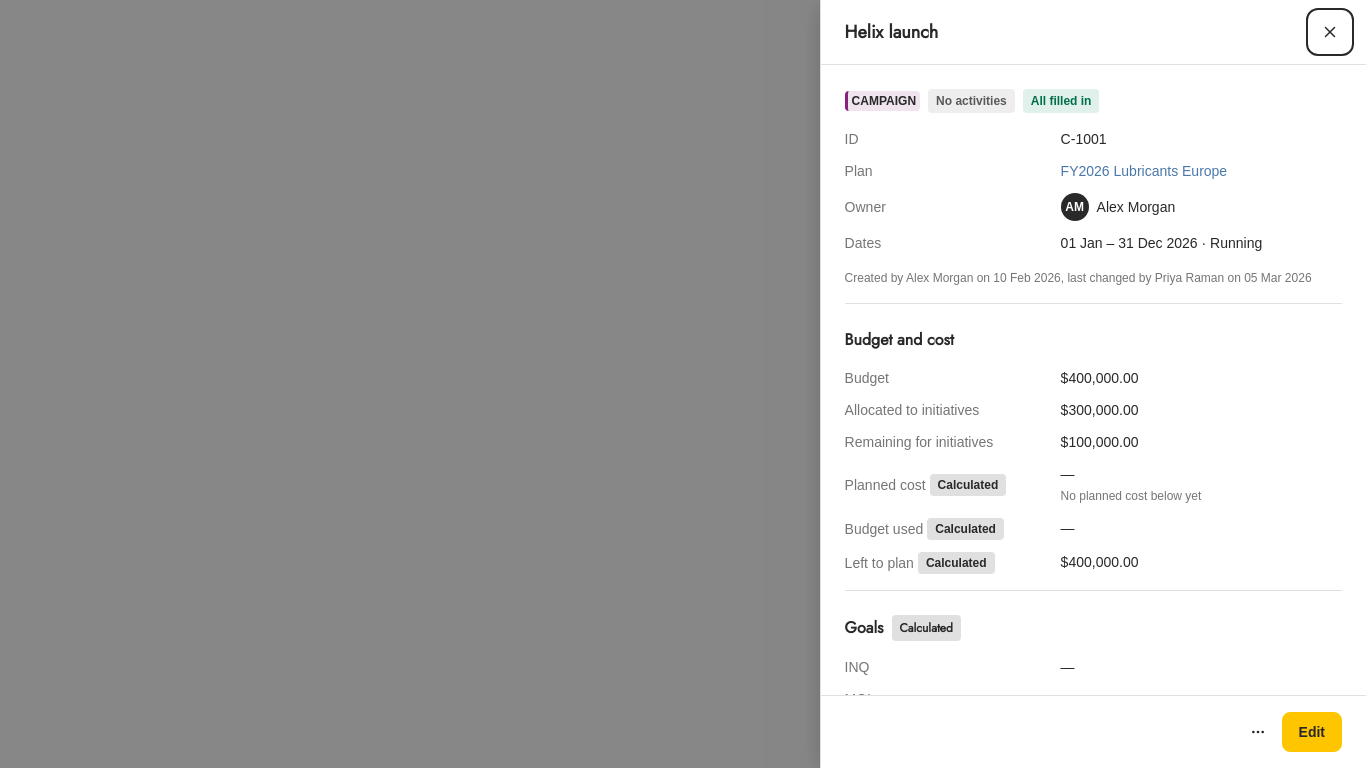
CampaignPanel — details (feature 005, US3) › offers Add initiative and View history under More (US3#1, FR-016, FR-030)
Click the button named "Actions for Helix launch" at (1258, 732), box [1242,716,1274,748]
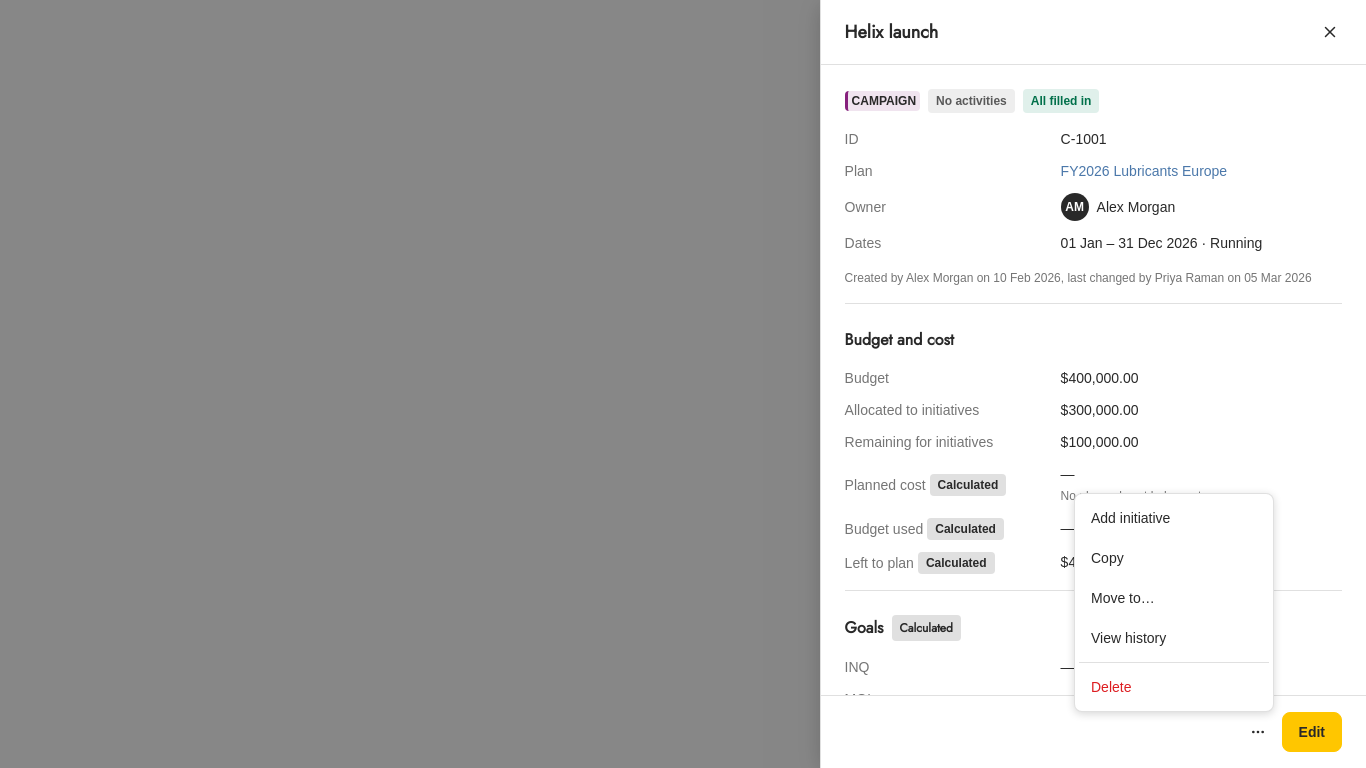
Expected: the menu items read "Add initiative", "Copy", "Move to…", "View history", "Delete", in this order
Click the menu item "View history" at (1129, 638), box [1091,630,1166,646]
(page scrolled)
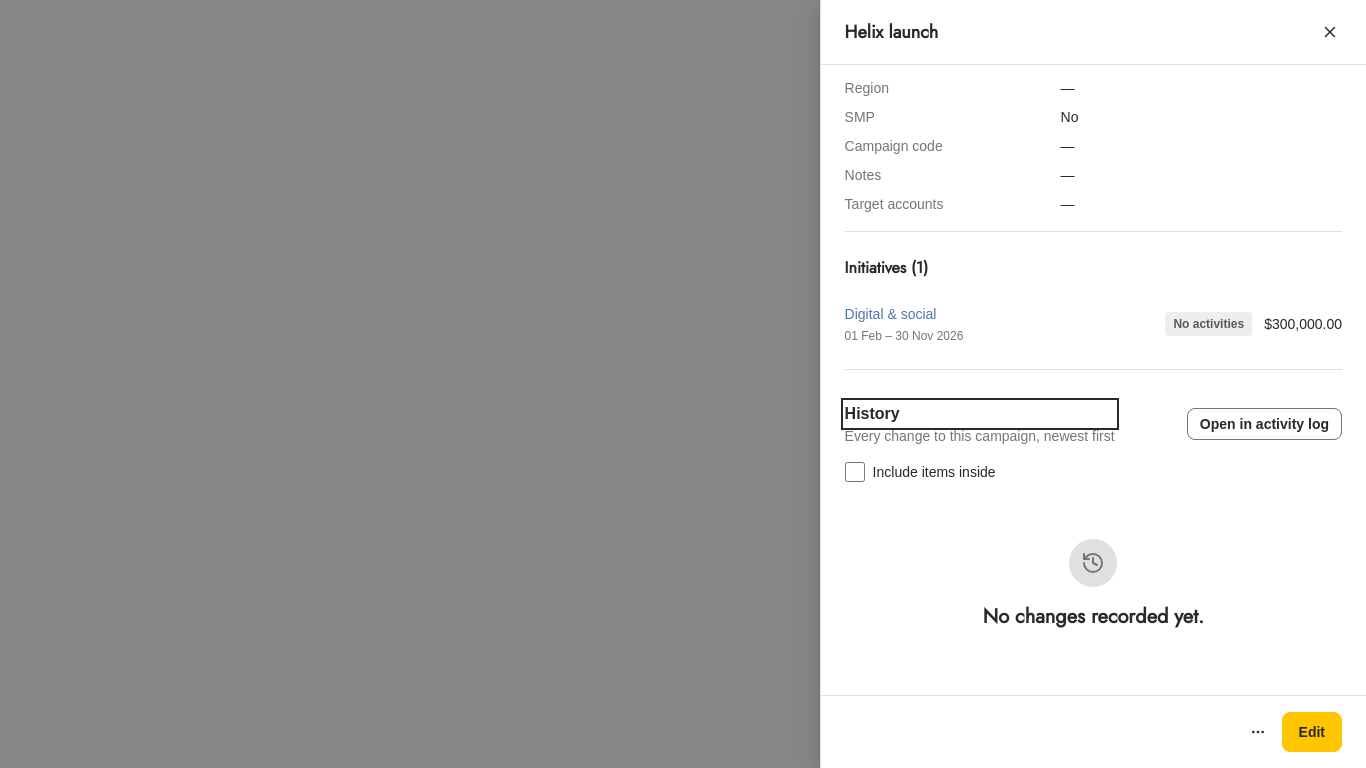
Expected: the element "History" is shown, [845,369,1342,671]
